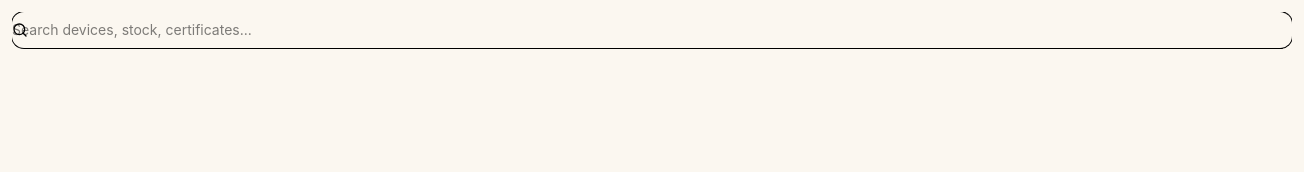
Test: GlobalSearch — A-56 a failed search is not 'no results' › shows the failure and the request id when the backend answers 500
Type "pump" into the field named "Global search". click: coordinates (652, 30)
box: x1=12 y1=12 x2=1292 y2=48
Wait 350 ms
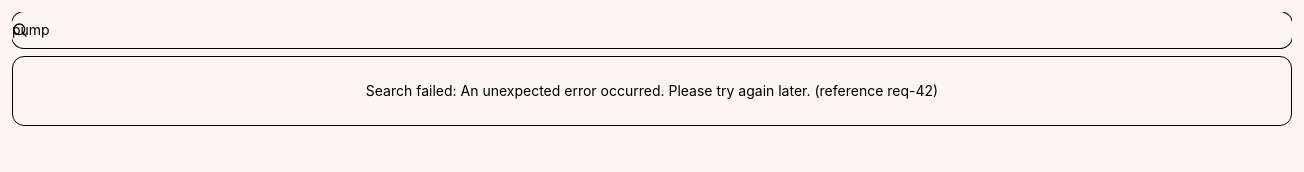
expect the text "Search failed: An unexpected error occurred. Please try again later. (reference req-42)" is shown: met, box x1=366 y1=82 x2=938 y2=99
